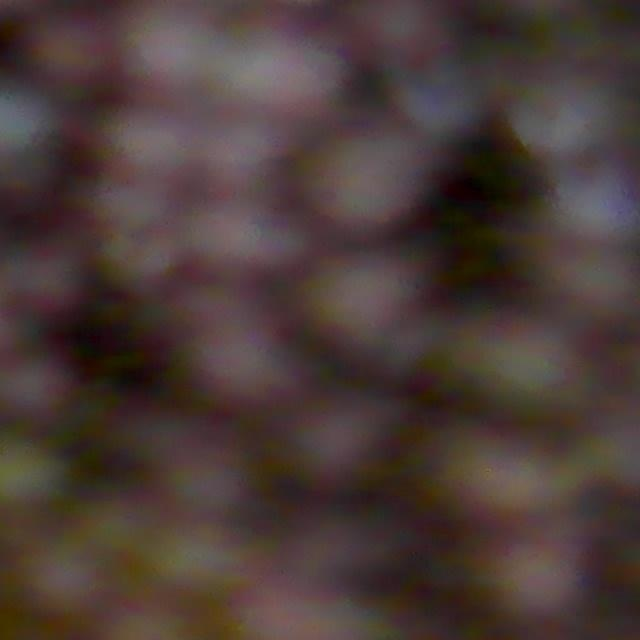SeaGrape: (443, 320, 598, 438), (413, 406, 562, 521), (293, 235, 426, 352), (179, 303, 303, 411), (305, 125, 422, 236), (219, 23, 335, 119), (279, 409, 399, 500), (192, 191, 296, 279), (483, 520, 571, 618), (121, 7, 214, 99), (542, 250, 640, 336), (105, 93, 198, 181), (343, 0, 452, 69), (22, 540, 103, 620), (0, 350, 75, 433), (35, 17, 106, 88)
